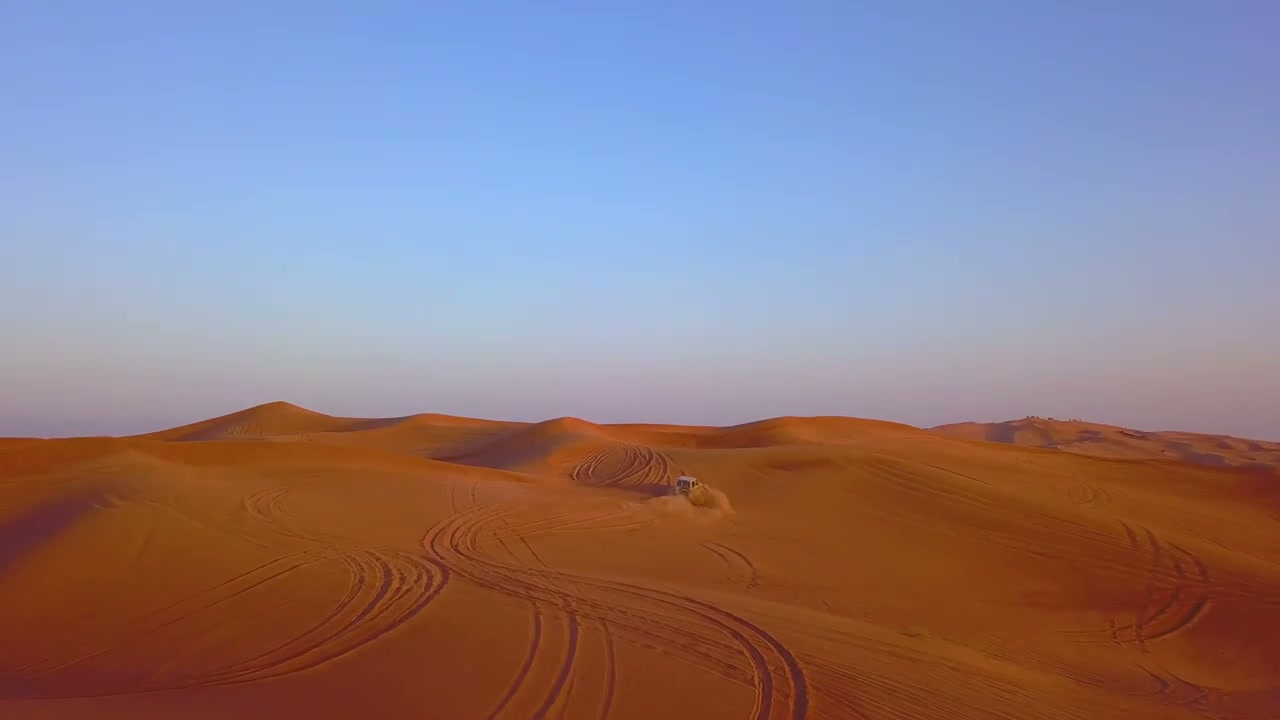vehicle_track: (9, 486, 448, 698), (423, 507, 808, 719), (424, 509, 748, 681), (7, 550, 324, 683), (246, 486, 448, 673), (200, 550, 444, 684), (1069, 520, 1214, 653), (1110, 521, 1212, 652), (486, 604, 542, 719), (482, 509, 654, 539), (531, 614, 579, 719), (570, 442, 676, 486), (702, 541, 759, 589), (598, 624, 616, 719), (1065, 483, 1111, 505)
